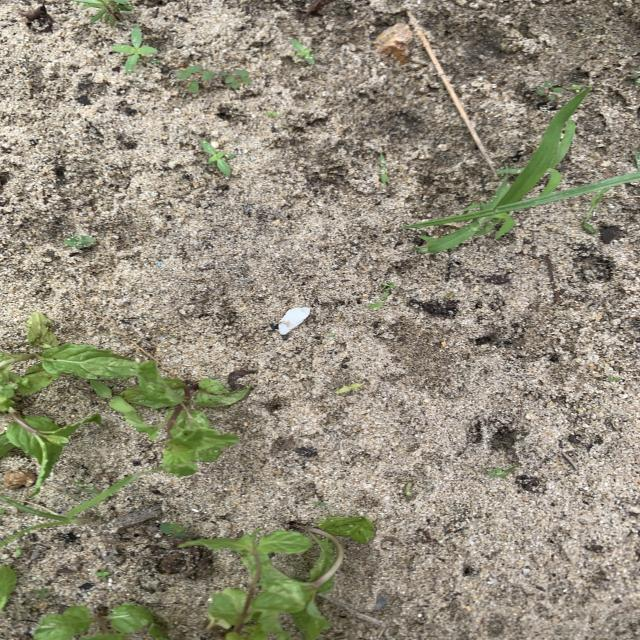crop: (196, 516, 375, 639), (107, 360, 250, 475), (0, 313, 164, 411), (1, 416, 79, 490), (35, 603, 167, 639)
weed: (406, 90, 640, 253), (0, 474, 139, 545), (176, 65, 250, 94), (112, 28, 157, 71), (76, 1, 132, 26), (201, 140, 235, 175), (366, 283, 395, 309), (535, 82, 564, 101), (293, 39, 315, 63), (488, 465, 517, 479), (160, 522, 185, 538), (64, 236, 95, 248), (337, 382, 363, 394), (96, 569, 110, 579)
